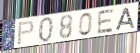0: (38, 16, 55, 44), (78, 11, 94, 37)
8: (59, 14, 74, 40)
A: (114, 7, 136, 32)
E: (96, 7, 116, 35)
P: (16, 19, 36, 46)
